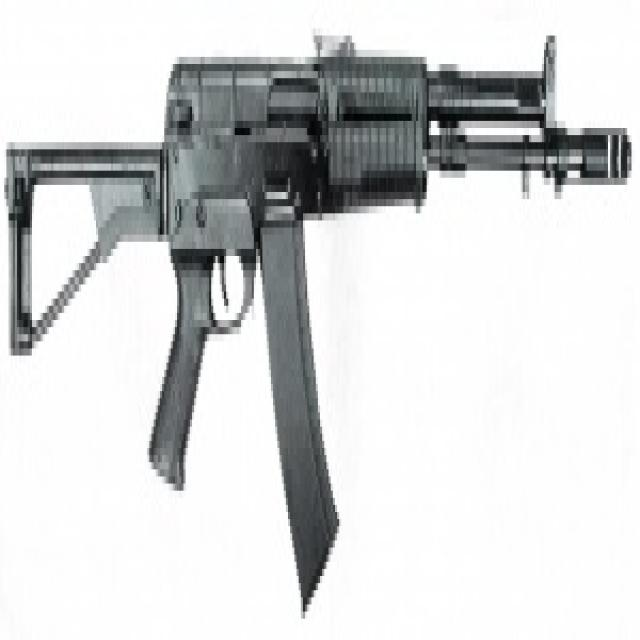rifle: (3, 19, 639, 640)
